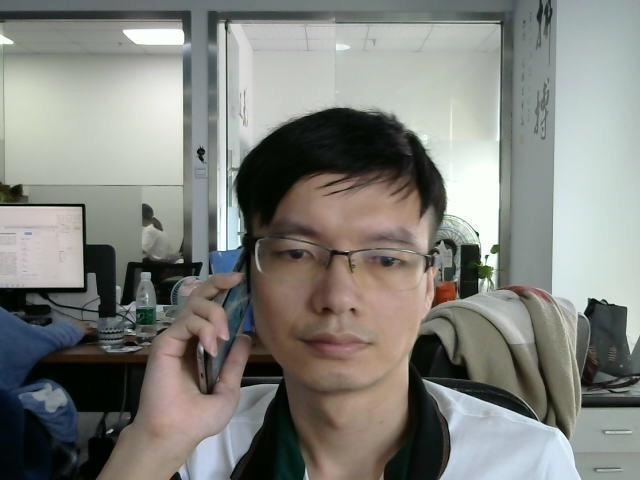hand: (147, 271, 248, 416)
